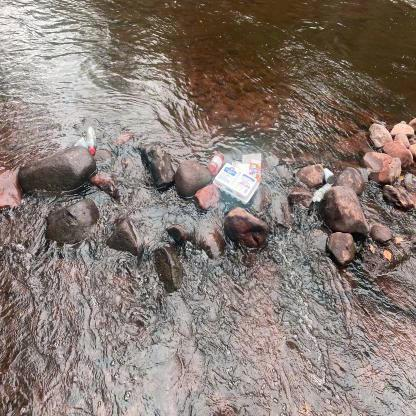Glass: (204, 150, 226, 178)
Metal: (320, 166, 337, 188)
Plastic: (212, 150, 265, 207), (84, 122, 102, 155), (310, 181, 334, 204), (74, 133, 89, 157)
